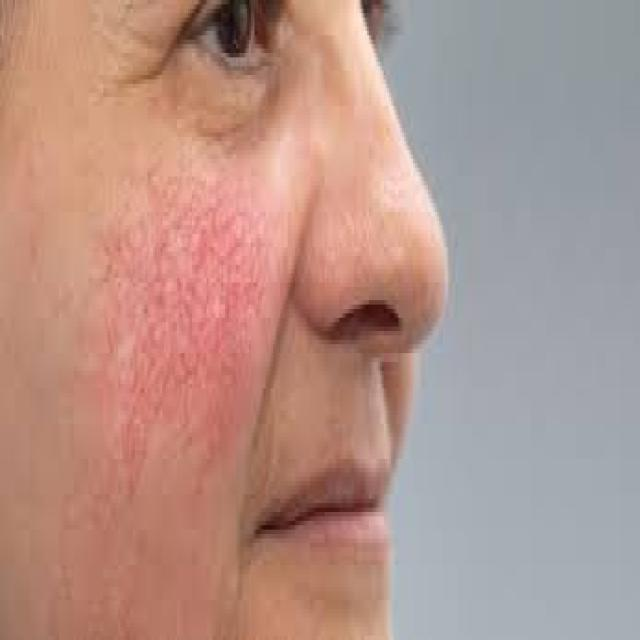Rosacea: (51, 173, 264, 616)
